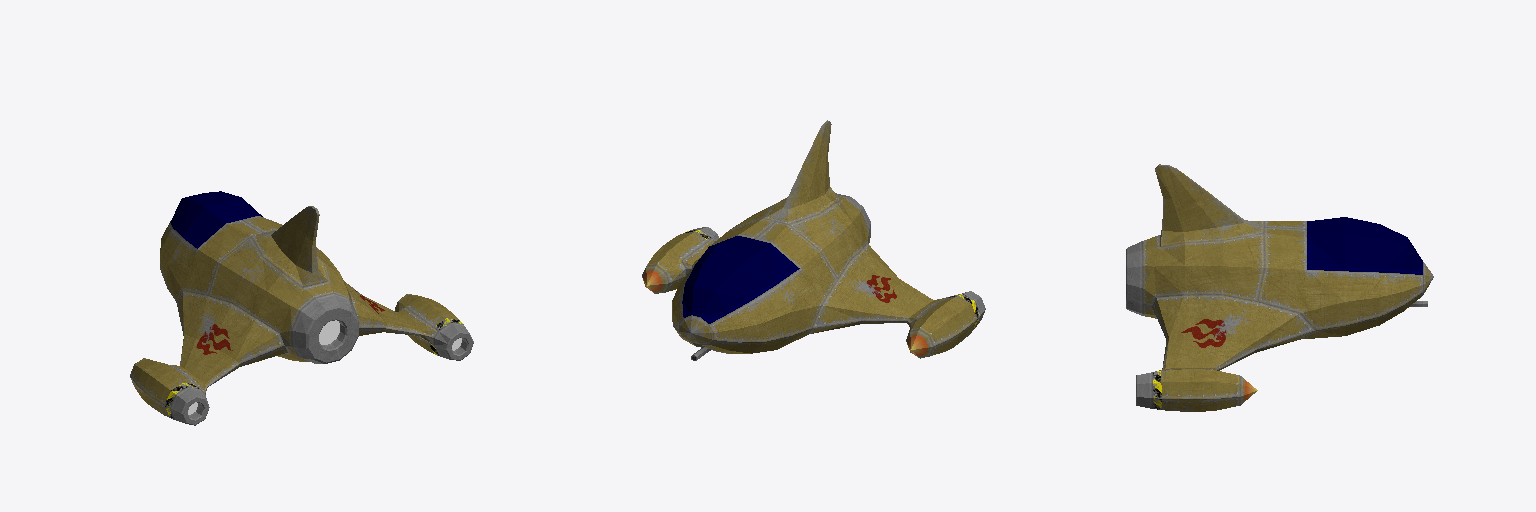
The picture shows the model from 3 angles: view 1: azimuth 30°, elevation 25°; view 2: azimuth 150°, elevation 25°; view 3: azimuth 270°, elevation 25°; orthographic projection.
Parts seen in each view (by area): view 1: ship; view 2: ship; view 3: ship.
Part boxes in pixels (bbox=[...]): ship: bbox=[130, 191, 473, 425]; ship: bbox=[642, 120, 985, 360]; ship: bbox=[1126, 164, 1433, 411].
Size of the model in its own units: 6.57 by 3.76 by 5.78.
1 materials, 1 textured.